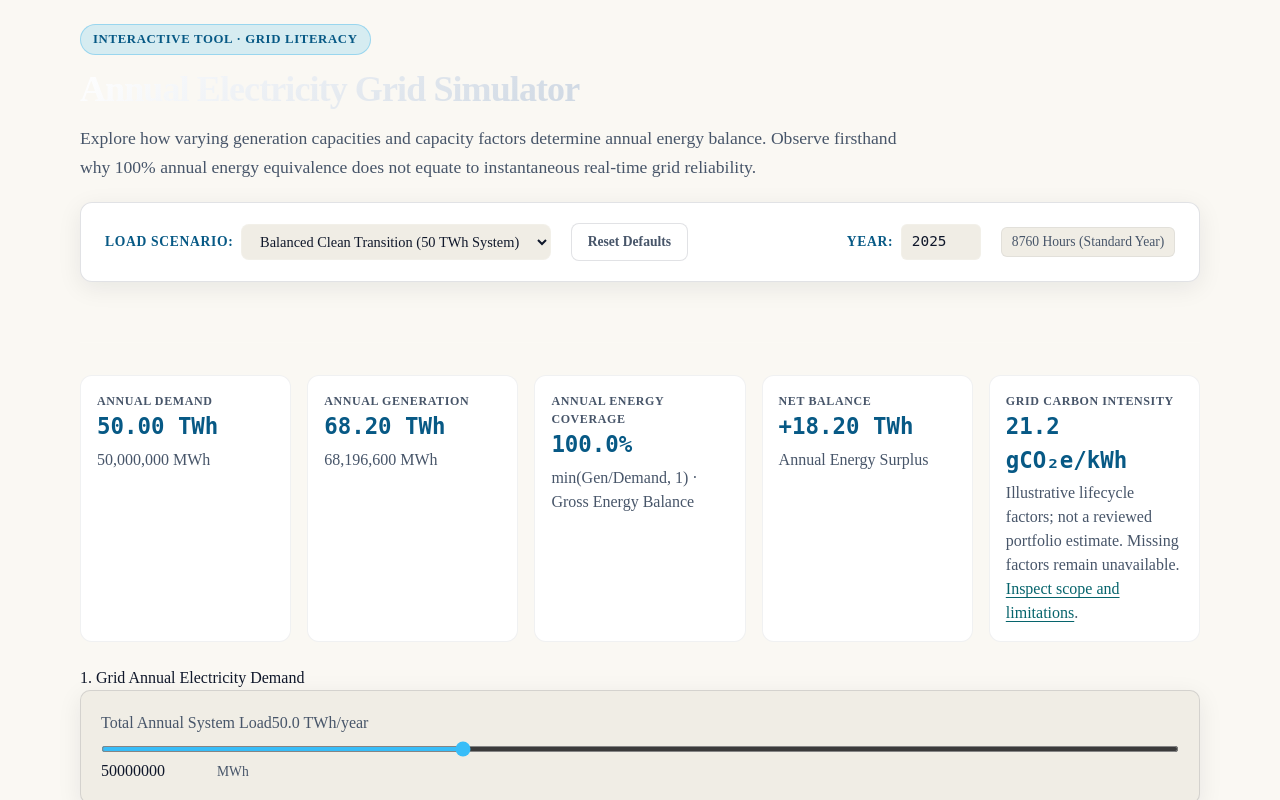
Test: GridSimulator Component (R17) › updates hours when calendar year is changed to leap year
The width and height of the screenshot is (1280, 800).
Replace the text in the number field labelled "Year:" with "2024" at [941, 242], box [901,224,981,260]
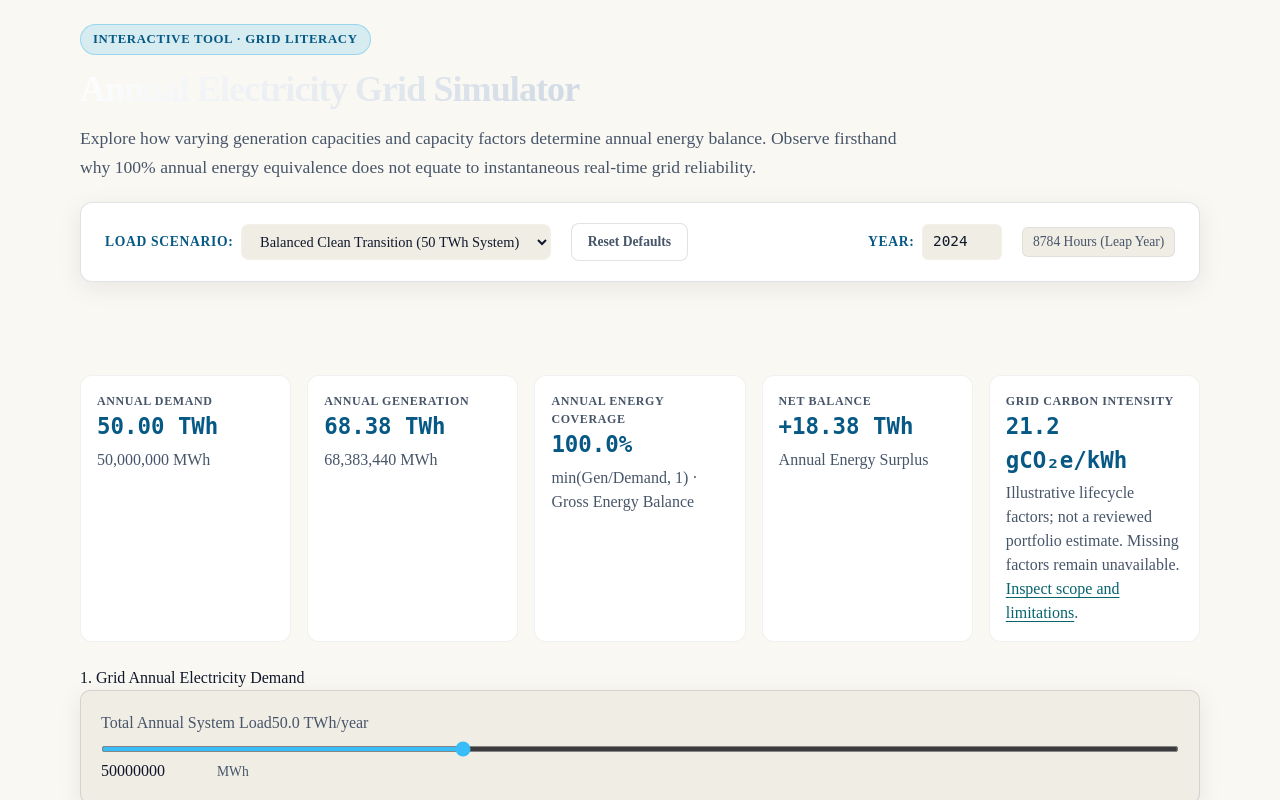
Expected: the text "8784 Hours (Leap Year)" is shown, [1022,227,1175,257]
